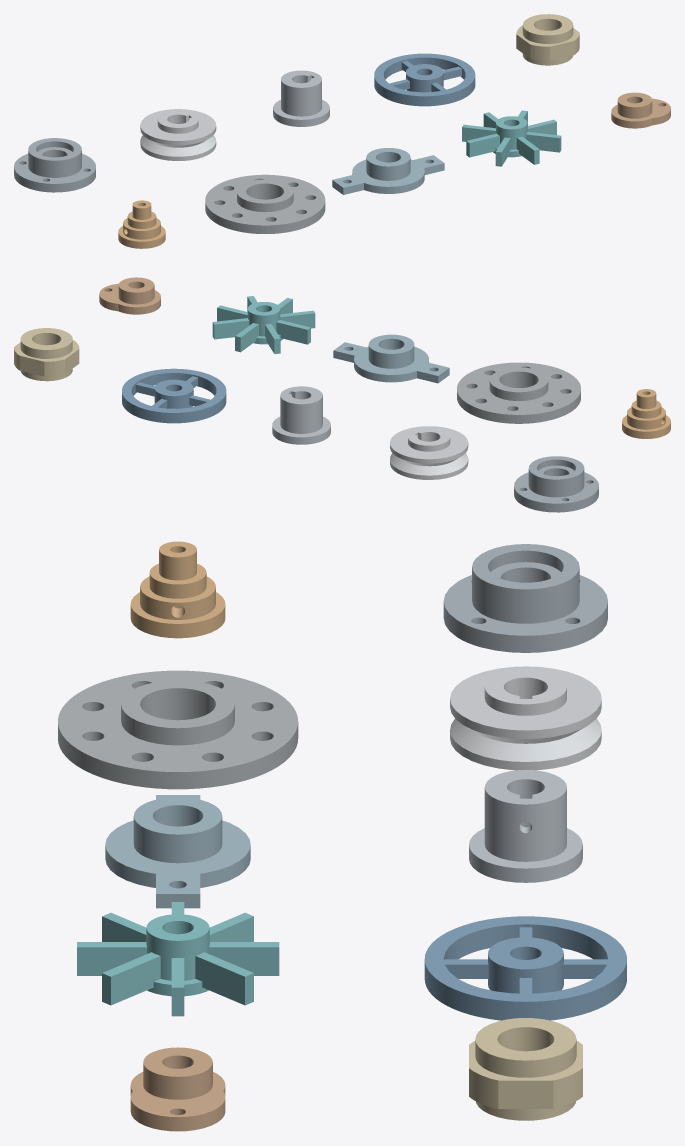
File: 00_all_machine_parts.glb
3 renders of one model, top to bottom at view 1: azimuth 30°, elevation 25°; view 2: azimuth 150°, elevation 25°; view 3: azimuth 270°, elevation 25°, orthographic. The views are drawn at different scales.
Parts seen in each view (by area): view 1: part_07, part_04, part_09, part_01, part_02, part_08, part_05, part_03, part_10, part_06; view 2: part_07, part_04, part_09, part_01, part_02, part_08, part_05, part_03, part_10, part_06; view 3: part_07, part_04, part_09, part_01, part_02, part_08, part_05, part_03, part_10, part_06.
Part boxes in pixels (left/top/right/bottom): part_07: left=205, top=174, right=325, bottom=233; part_04: left=374, top=53, right=475, bottom=106; part_09: left=462, top=110, right=561, bottom=166; part_01: left=14, top=138, right=95, bottom=192; part_02: left=140, top=109, right=216, bottom=160; part_08: left=332, top=148, right=444, bottom=194; part_05: left=516, top=14, right=579, bottom=65; part_03: left=273, top=70, right=329, bottom=126; part_10: left=611, top=92, right=670, bottom=128; part_06: left=118, top=200, right=165, bottom=248; part_07: left=457, top=362, right=580, bottom=423; part_04: left=122, top=368, right=226, bottom=423; part_09: left=212, top=296, right=315, bottom=353; part_01: left=514, top=456, right=598, bottom=512; part_02: left=390, top=426, right=468, bottom=479; part_08: left=333, top=334, right=449, bottom=383; part_05: left=14, top=328, right=79, bottom=381; part_03: left=272, top=386, right=330, bottom=444; part_10: left=99, top=277, right=160, bottom=314; part_06: left=622, top=389, right=670, bottom=438; part_07: left=58, top=670, right=298, bottom=789; part_04: left=424, top=916, right=626, bottom=1020; part_09: left=77, top=902, right=279, bottom=1016; part_01: left=443, top=544, right=607, bottom=652; part_02: left=450, top=666, right=601, bottom=770; part_08: left=105, top=795, right=250, bottom=908; part_05: left=469, top=1018, right=582, bottom=1120; part_03: left=469, top=770, right=582, bottom=882; part_10: left=130, top=1047, right=225, bottom=1131; part_06: left=130, top=541, right=225, bottom=638.
Size of the model in its own units: 410 by 27 by 180.
